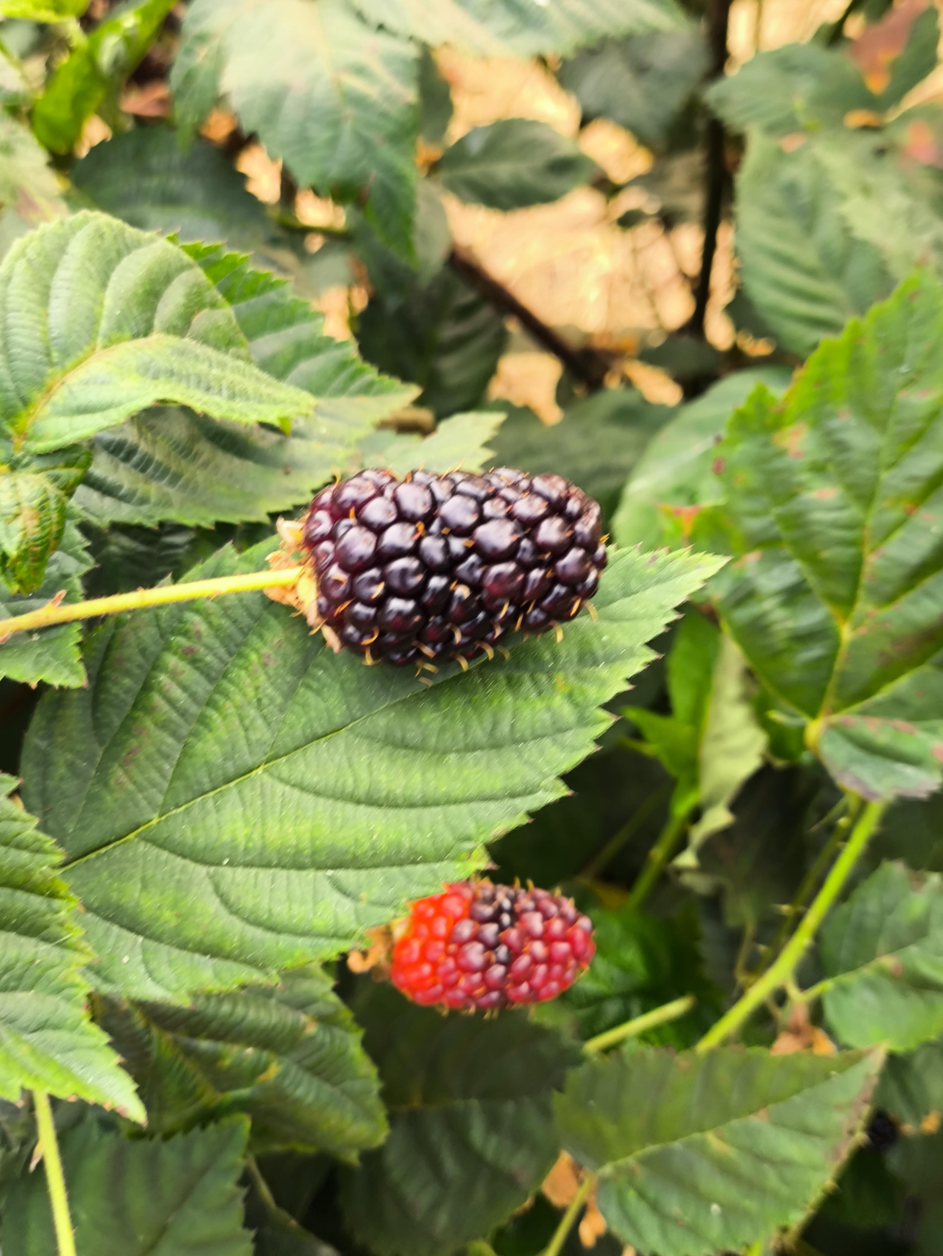marron: (299, 479, 606, 676), (391, 883, 594, 1010)
